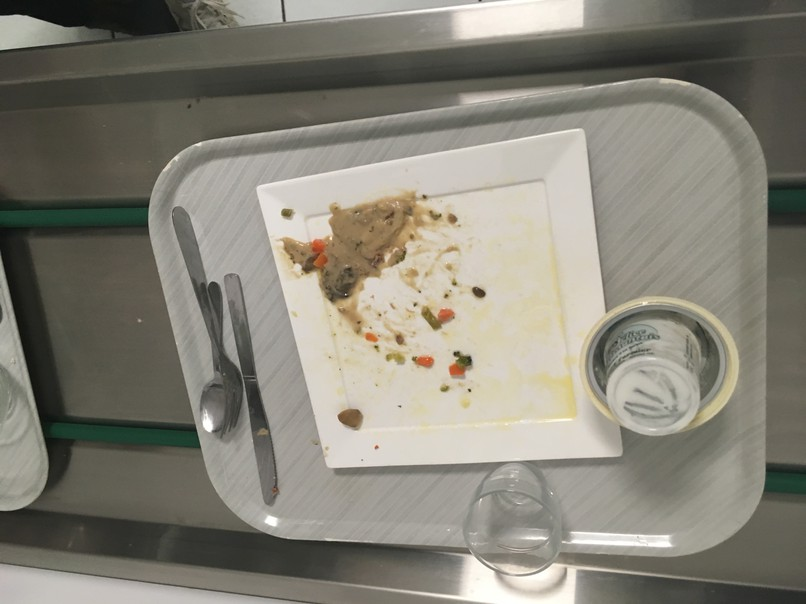cup: (453, 471, 585, 579)
cutlery: (157, 195, 292, 509)
orga: (287, 202, 419, 302)
trash: (590, 292, 741, 457)
